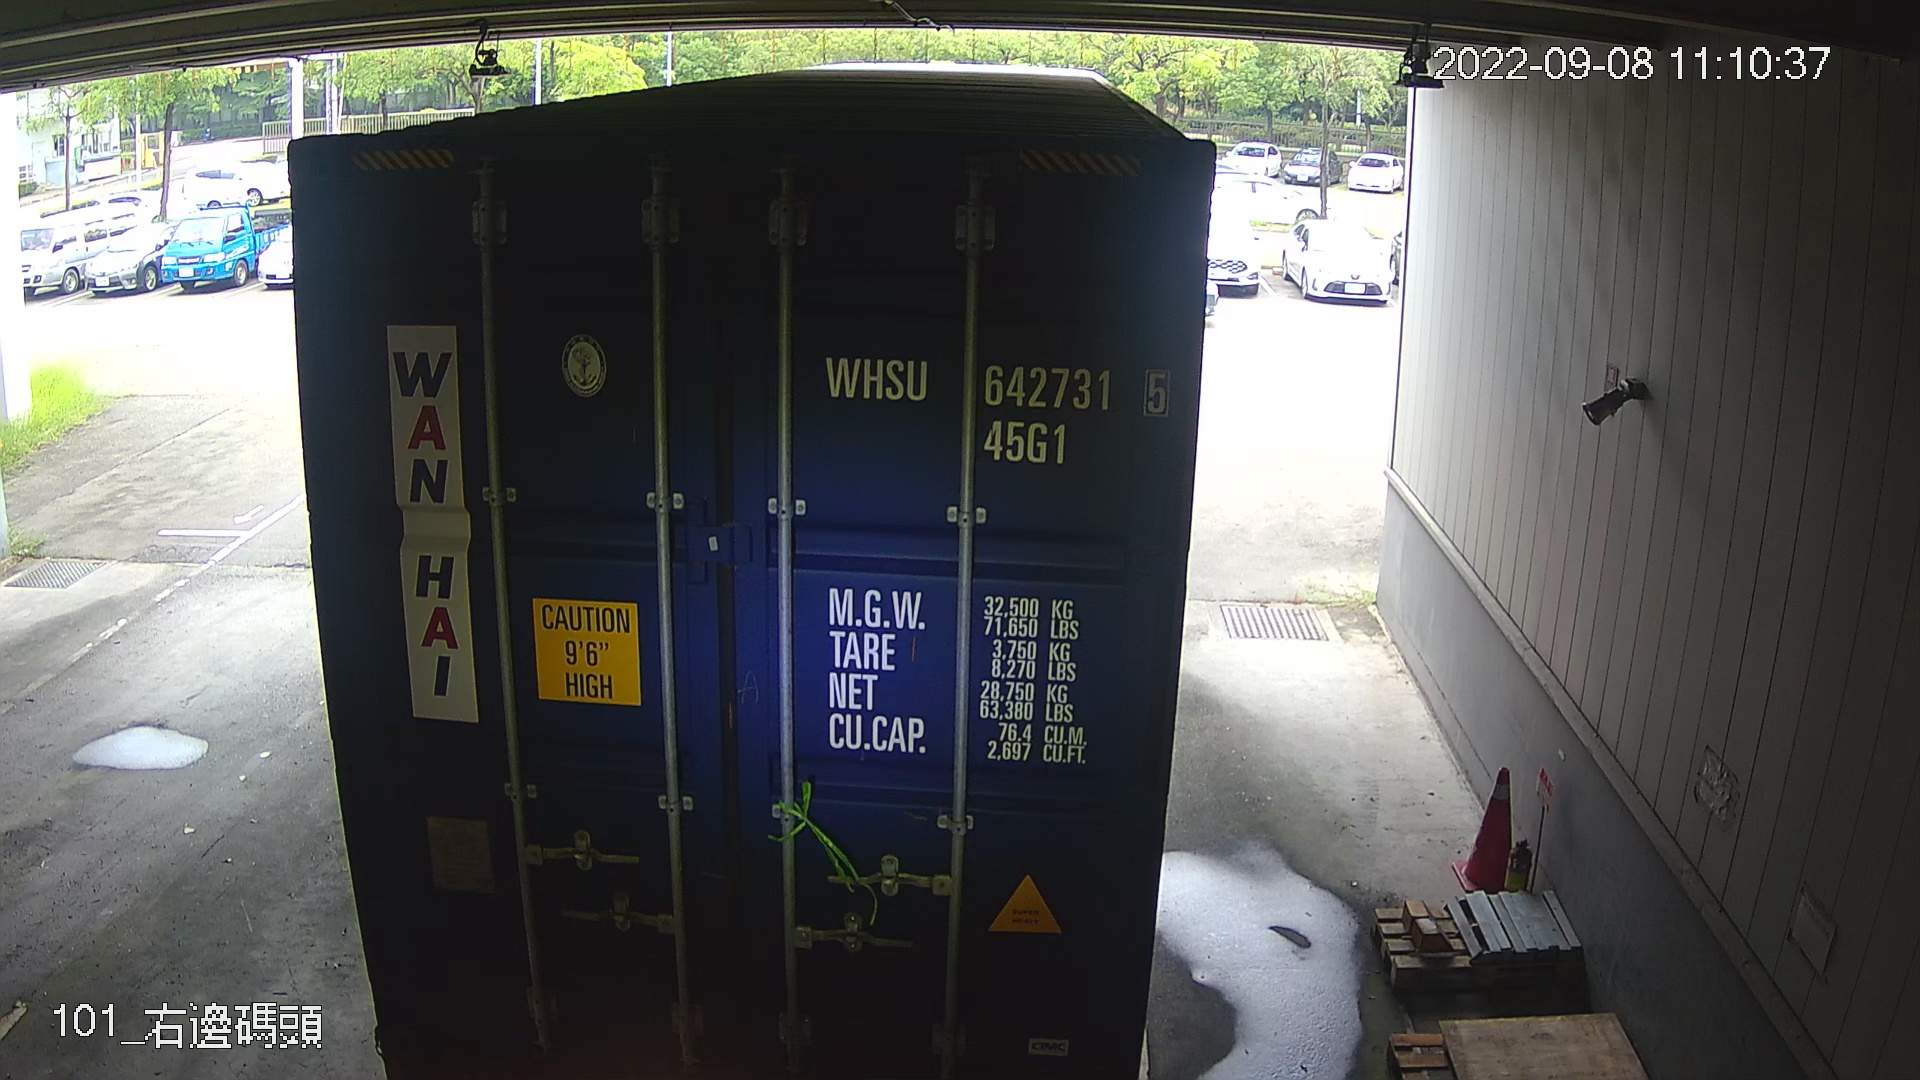container: (808, 330, 1182, 480)
